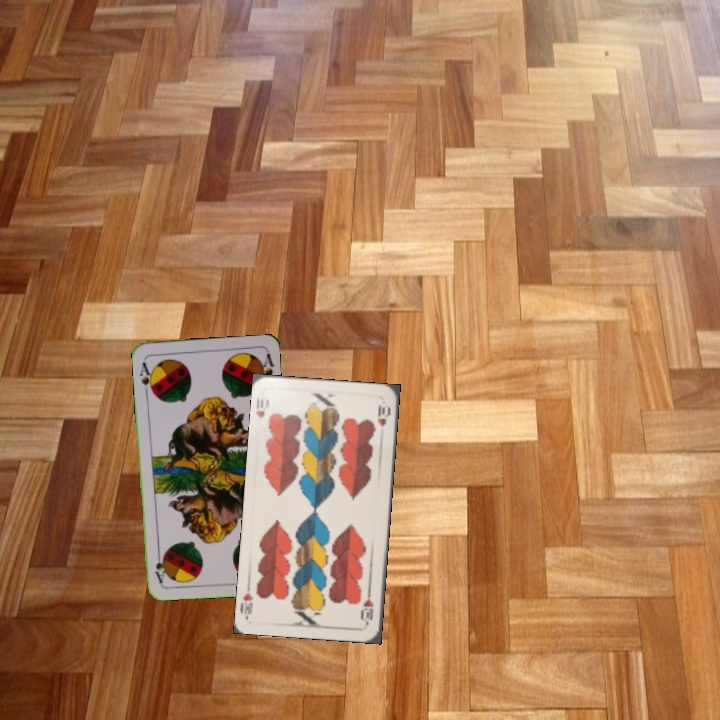H10: (358, 586, 376, 627), (253, 393, 271, 421)
SA: (136, 358, 156, 396)
